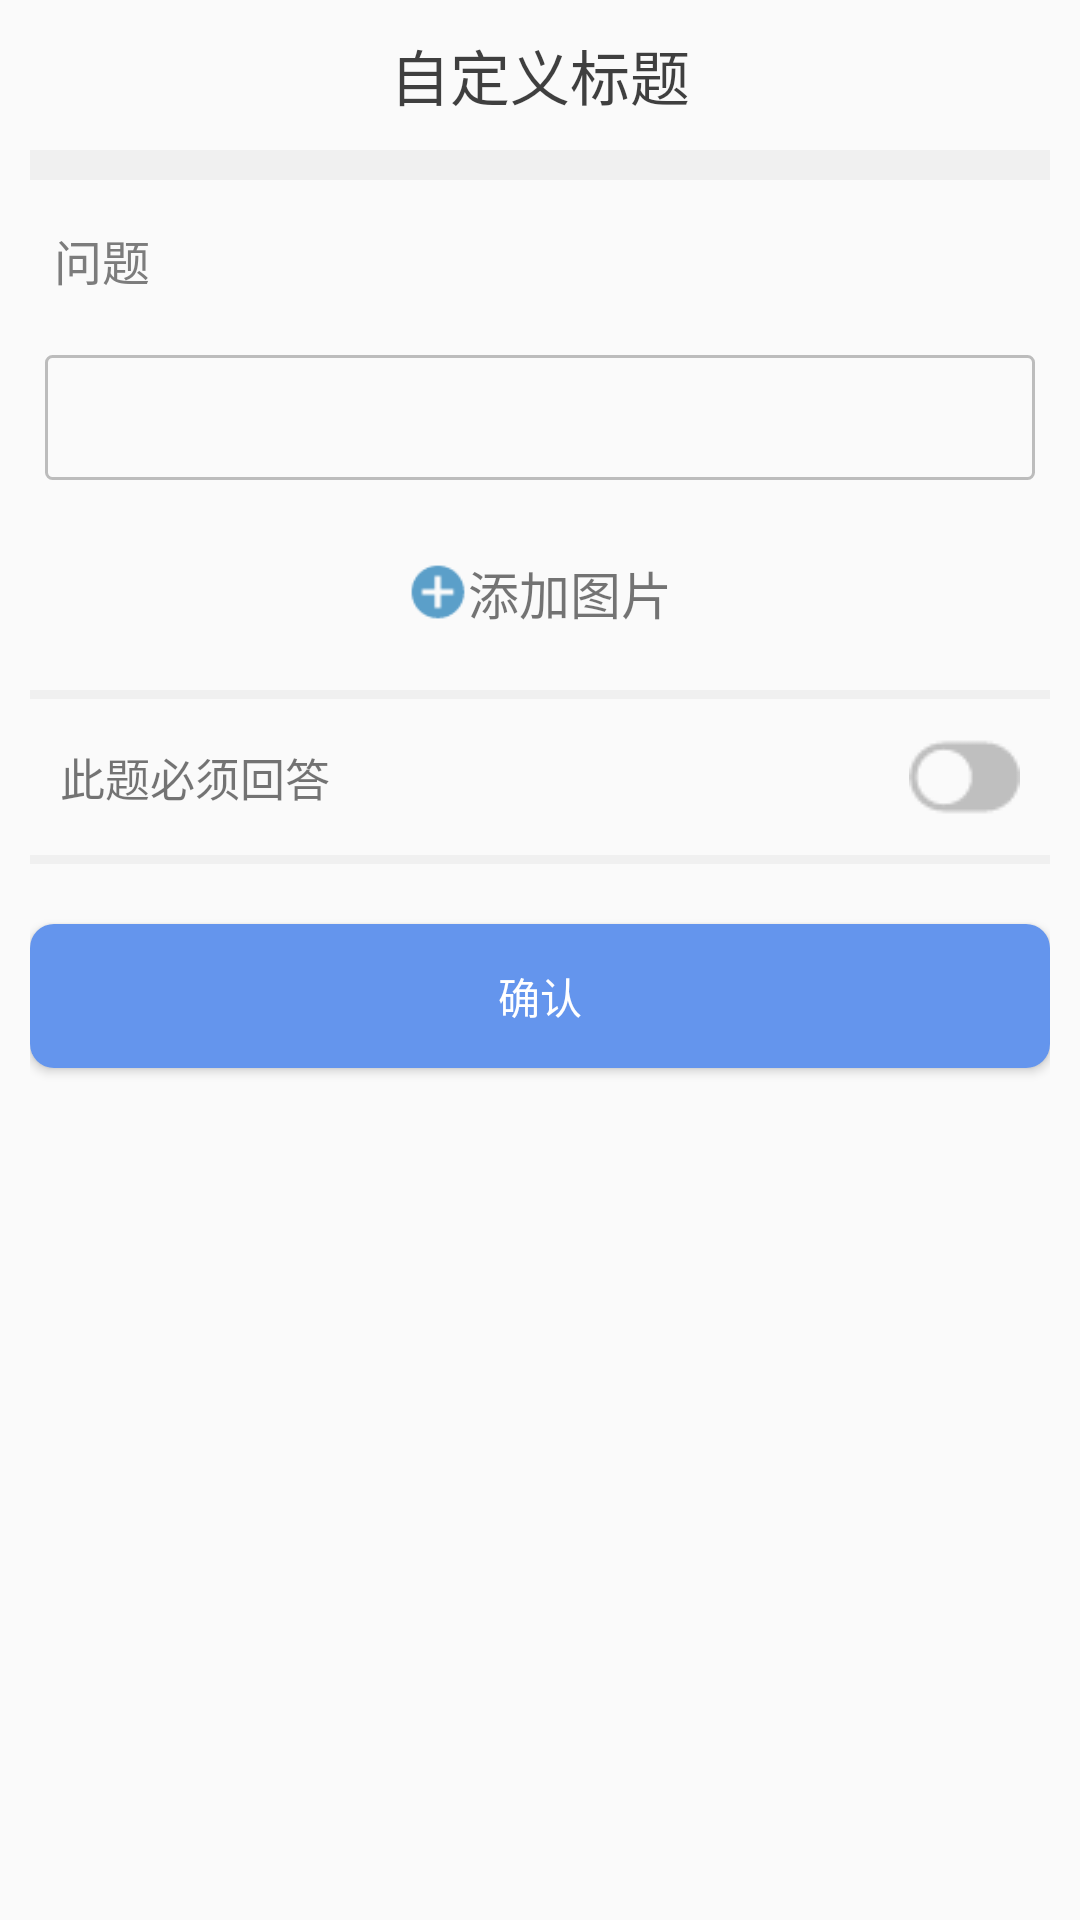

Screen size 1080 x 1920. Icon name, then its center in pixels as [x,y]:
toggle: [964,777]
